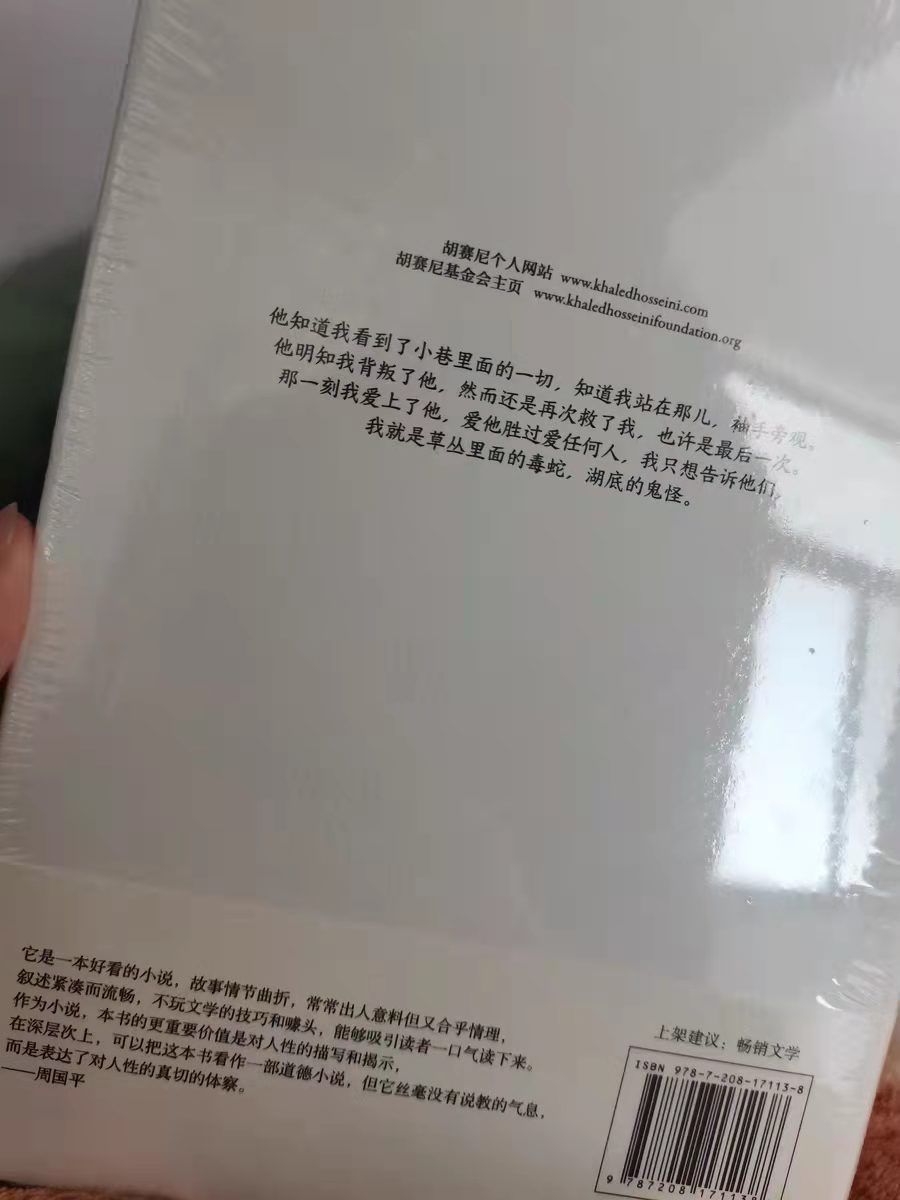book: (1, 2, 900, 1200)
